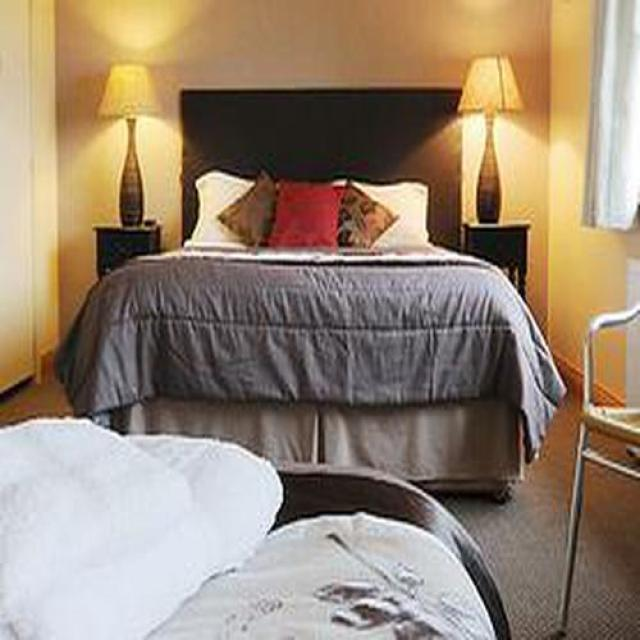bed: (55, 87, 566, 502)
